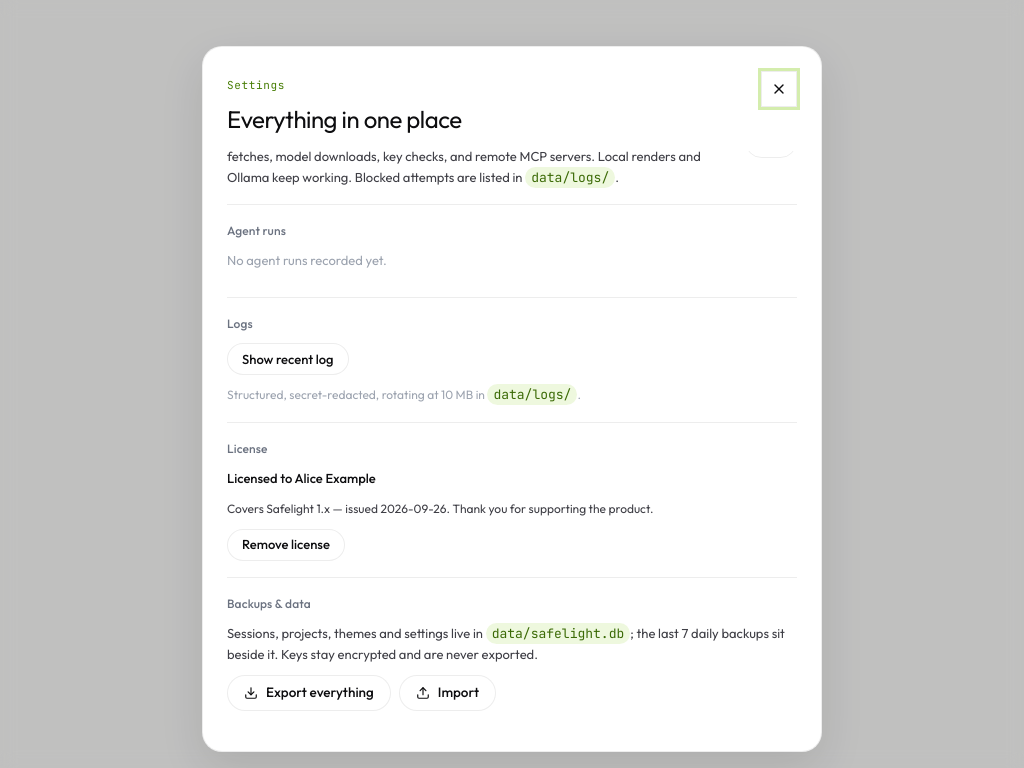
Test: SettingsDialog › a licensed install shows who it is licensed to and can remove it
The image size is (1024, 768).
(page scrolled)
Expected: the text "Licensed to Alice Example" is shown, [227, 470, 376, 486]
Expected: the text "Covers Safelight 1.x — issued 2026-09-26" is shown, [227, 501, 653, 516]
Click the button "Remove license" at {"x": 286, "y": 545}, box [227, 529, 345, 561]
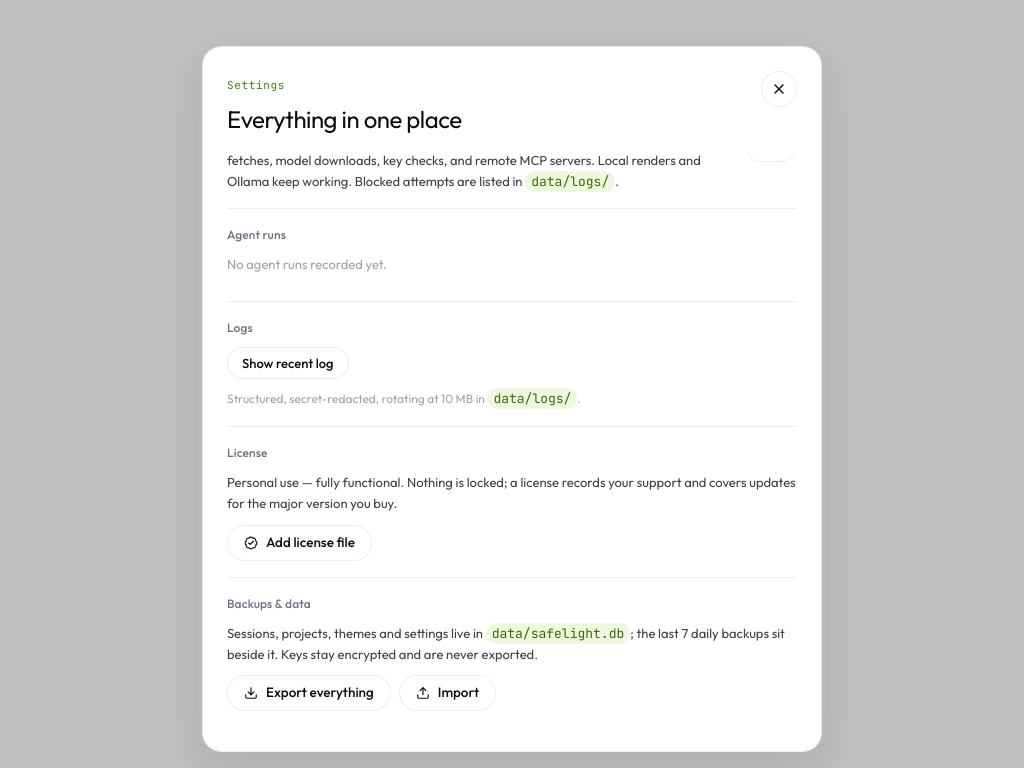
Now the text "Personal use — fully functional" is shown, box [227, 474, 796, 511]
